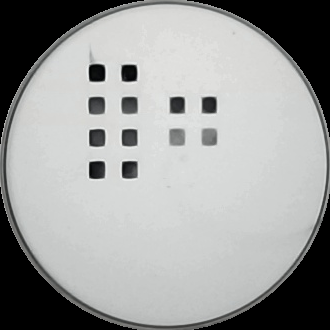检查点: (199, 93, 220, 116), (167, 127, 188, 149), (119, 96, 141, 116), (200, 125, 219, 148), (168, 96, 189, 116), (120, 160, 141, 180), (87, 63, 107, 83), (119, 64, 139, 84), (120, 128, 140, 148), (87, 160, 107, 180), (87, 96, 107, 115), (88, 128, 106, 148)
